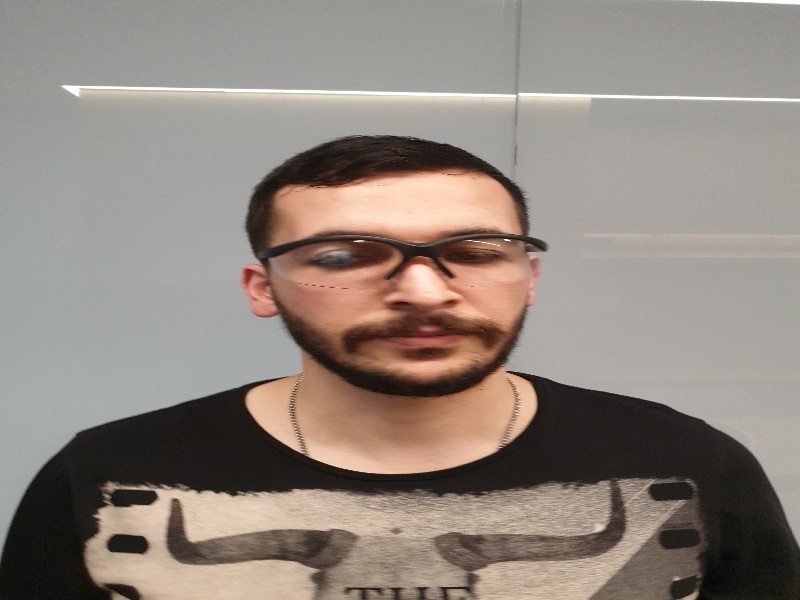Gozluk: (258, 233, 550, 287)
